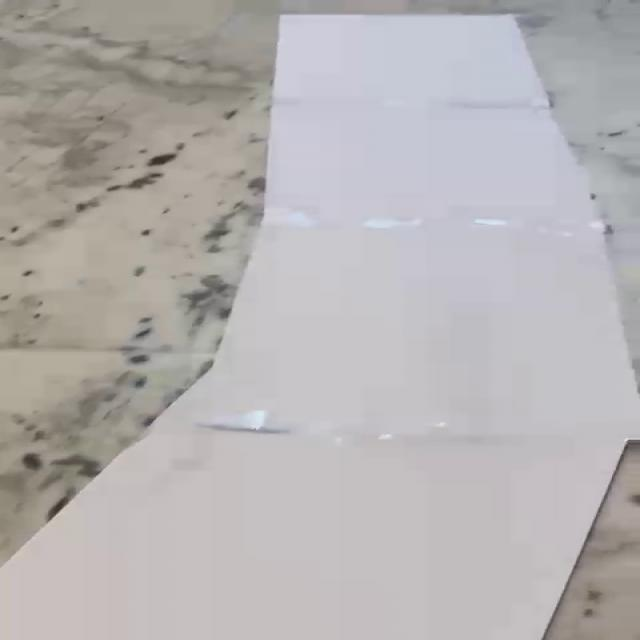road: (0, 14, 640, 640)
